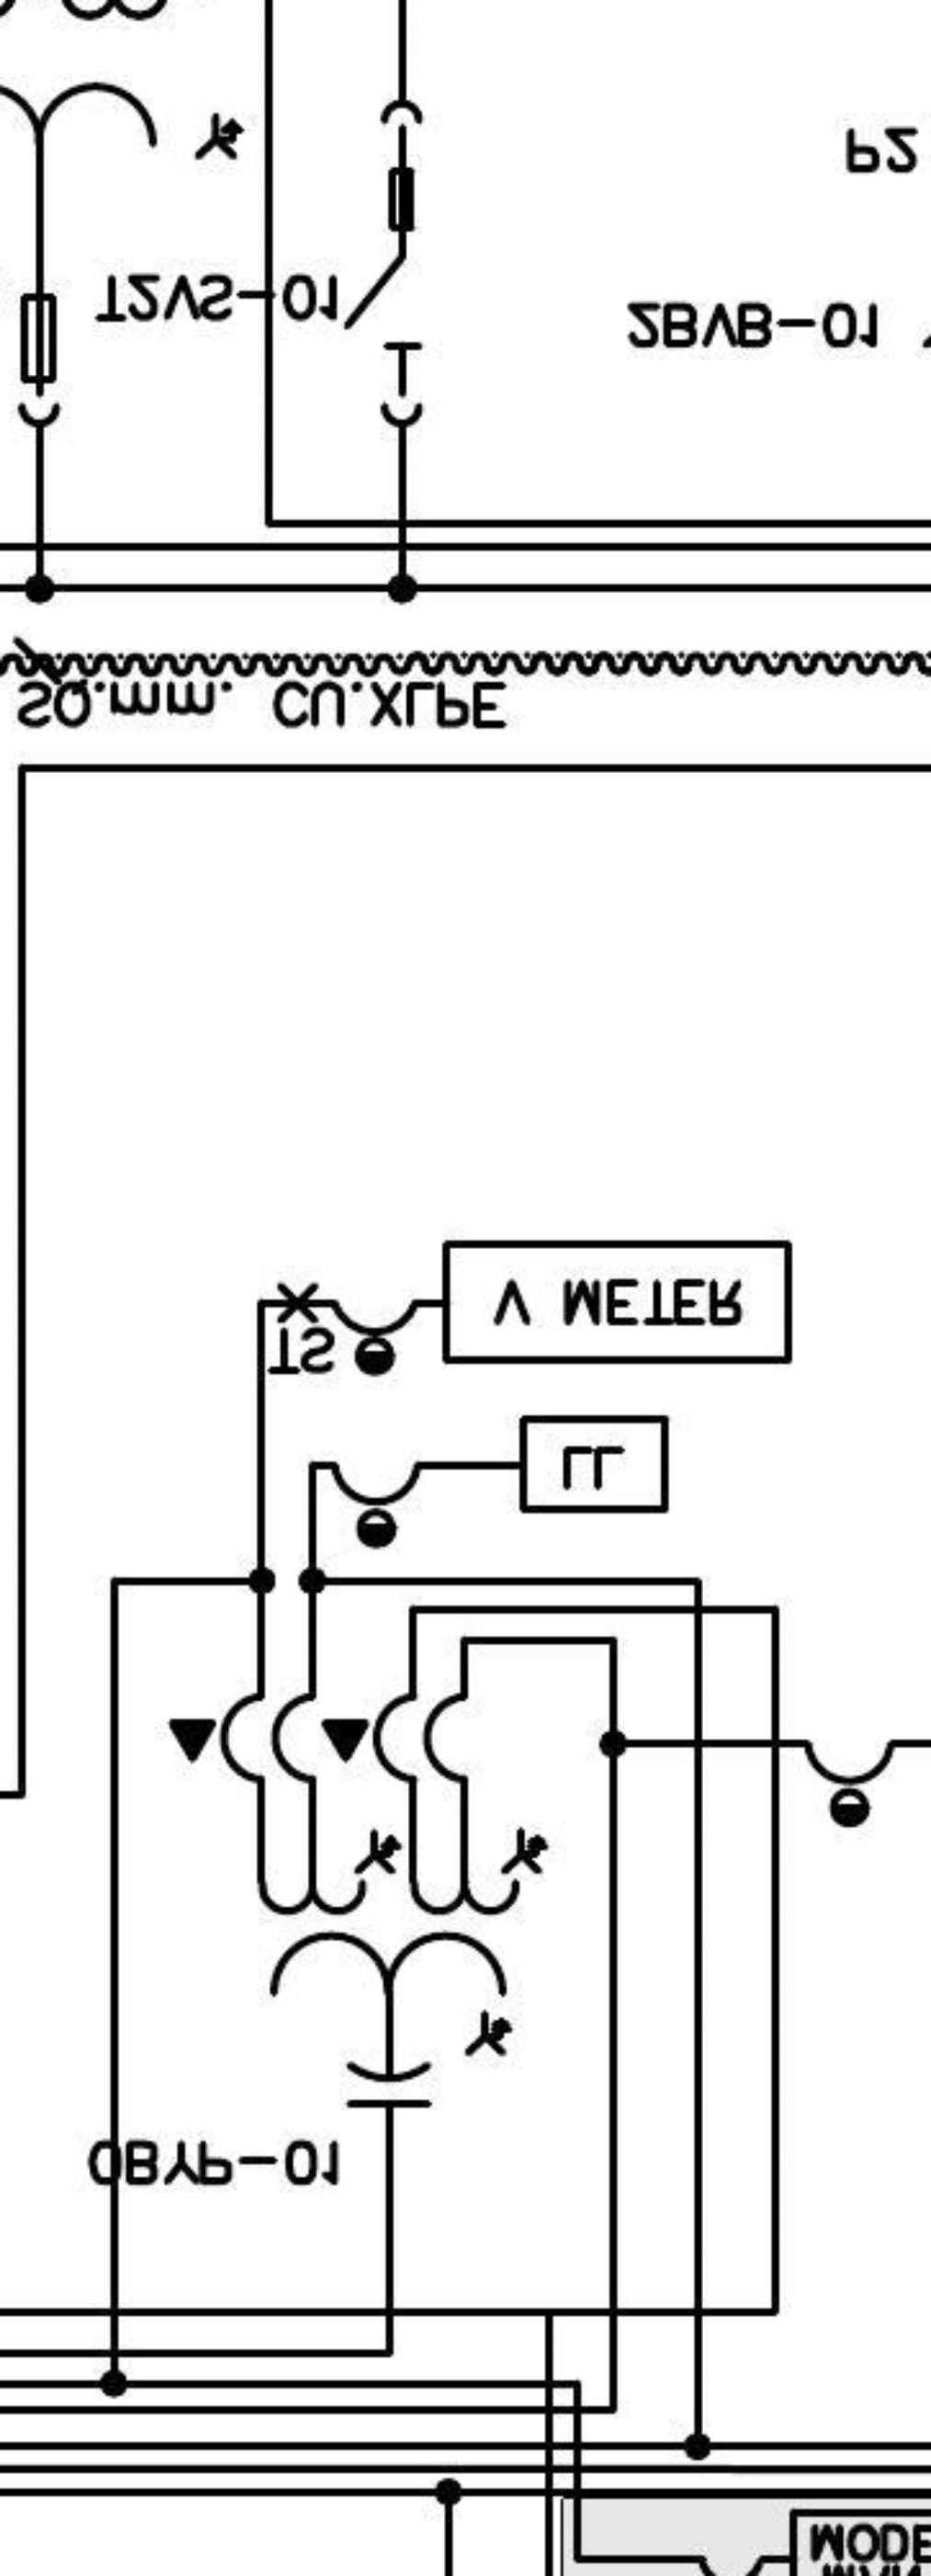115_cvt_3p: (166, 1689, 550, 2109)
22_ds: (343, 99, 425, 429)
LL: (517, 1411, 672, 1516)
v_m_digital: (438, 1237, 795, 1367)
